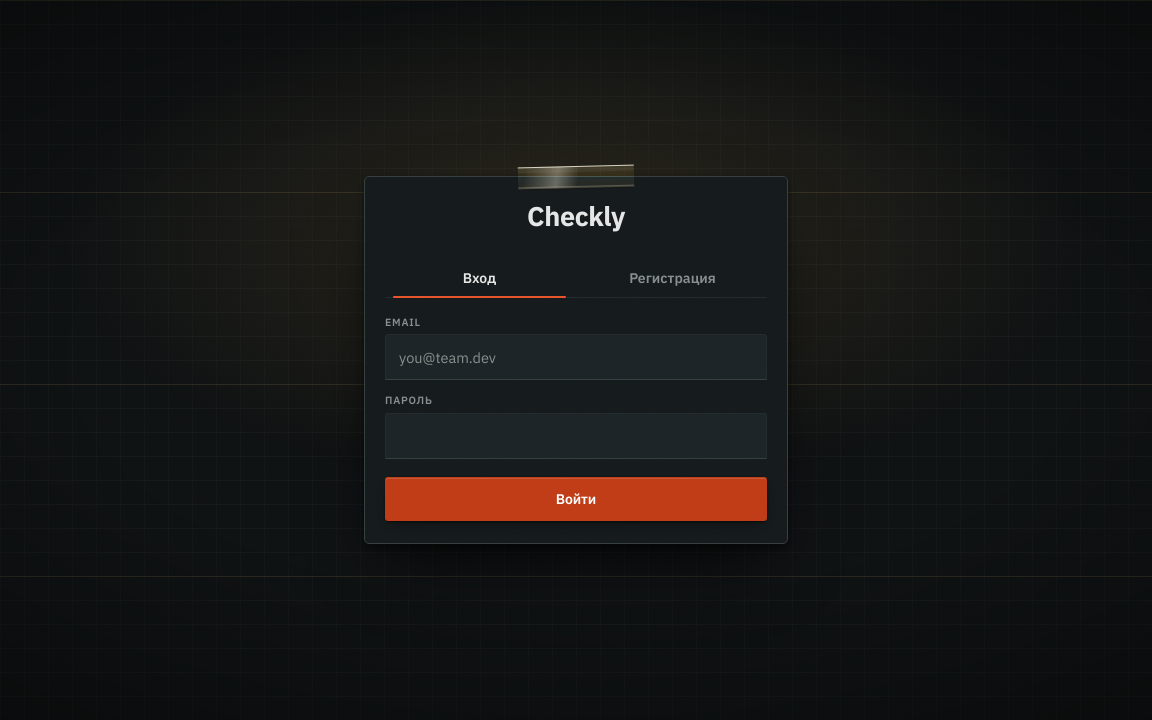
Test: LoginPage › switches to registration and shows the name field
The width and height of the screenshot is (1152, 720).
Click the button "Регистрация".
click(672, 278)  # box [578, 259, 767, 297]
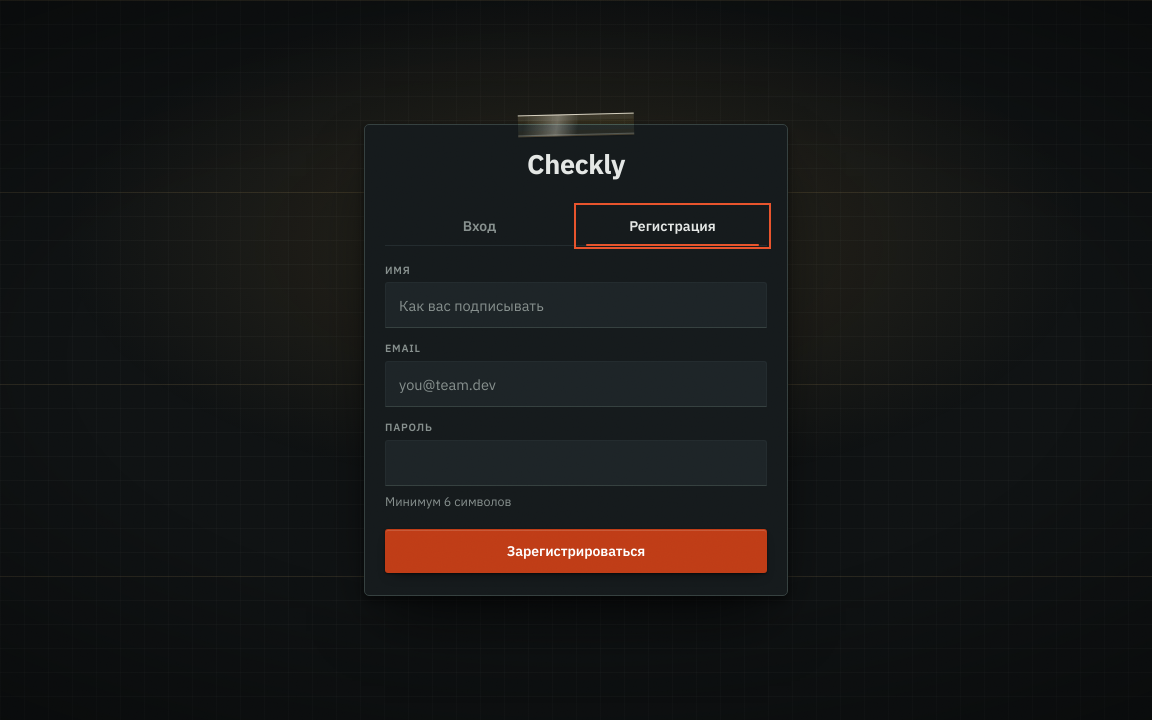
Expected: the field labelled "Имя" is shown, [385, 282, 767, 328]
